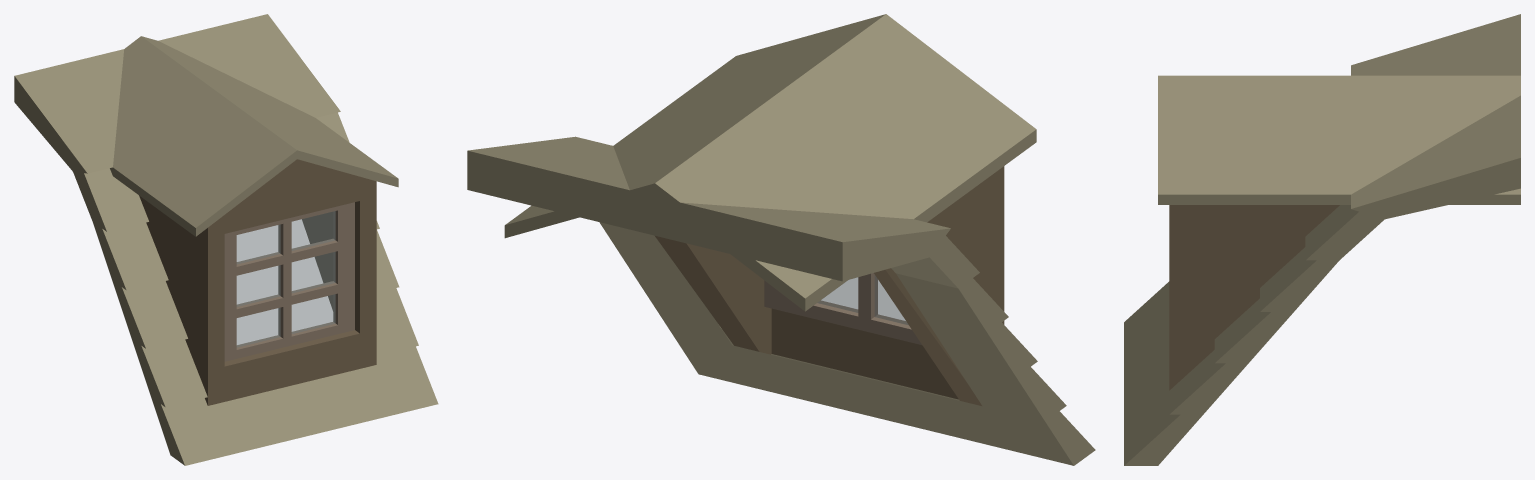
File: victorian_roof_1_window.fbx
3 renders of one model, left to right at view 1: azimuth 30°, elevation 25°; view 2: azimuth 150°, elevation 25°; view 3: azimuth 270°, elevation 25°, orthographic. The views are drawn at different scales.
Visible parts, largest first — view 1: Cube.237; view 2: Cube.237; view 3: Cube.237.
Boxes of the visible parts, left/top/right/bottom form: Cube.237: left=14, top=14, right=438, bottom=465; Cube.237: left=467, top=14, right=1095, bottom=465; Cube.237: left=1124, top=14, right=1520, bottom=465.
Bounding box in the file's own units: 300 × 310 × 350.
